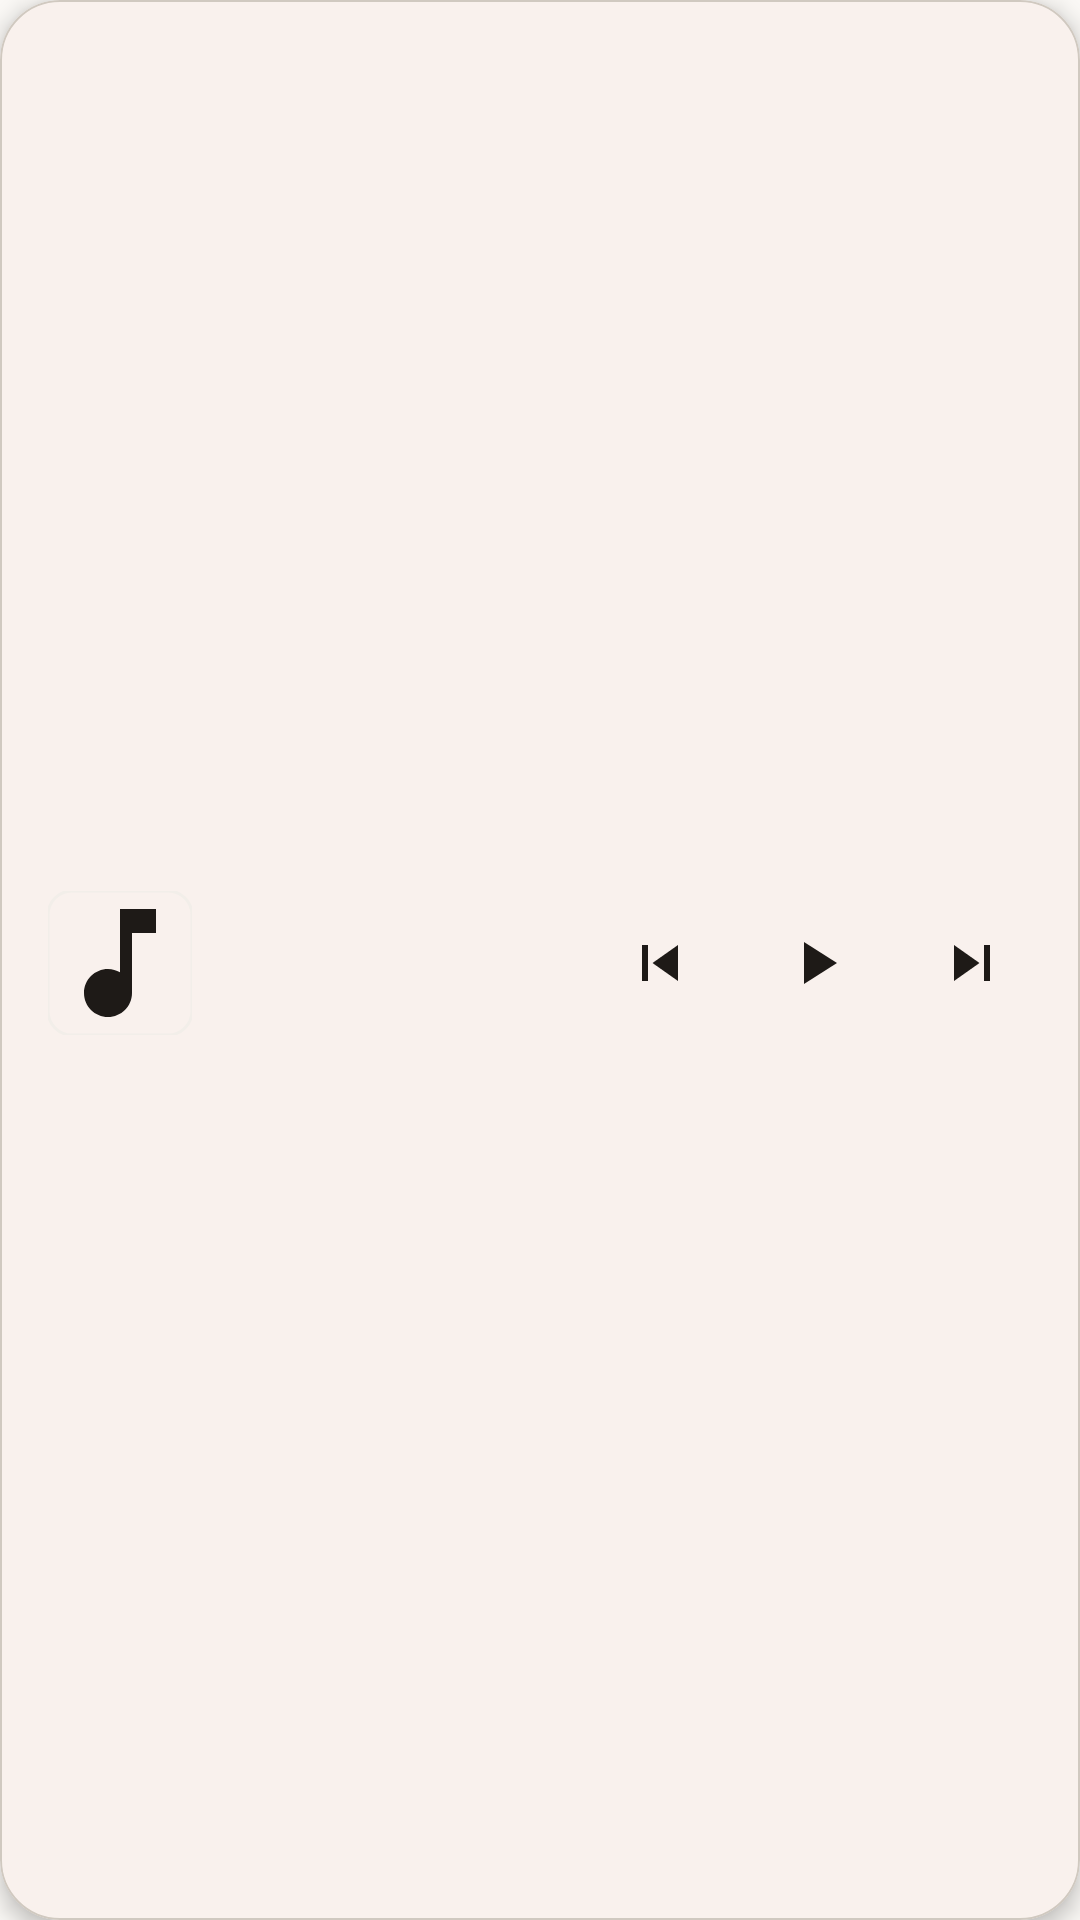

Where icons sit on this 1080px×1920px app screen, as (x1, y1, x2, y2):
music note: (84, 909, 156, 1017)
上一首: (642, 945, 678, 981)
下一首: (954, 945, 990, 981)
播放/暂停: (804, 942, 837, 984)
